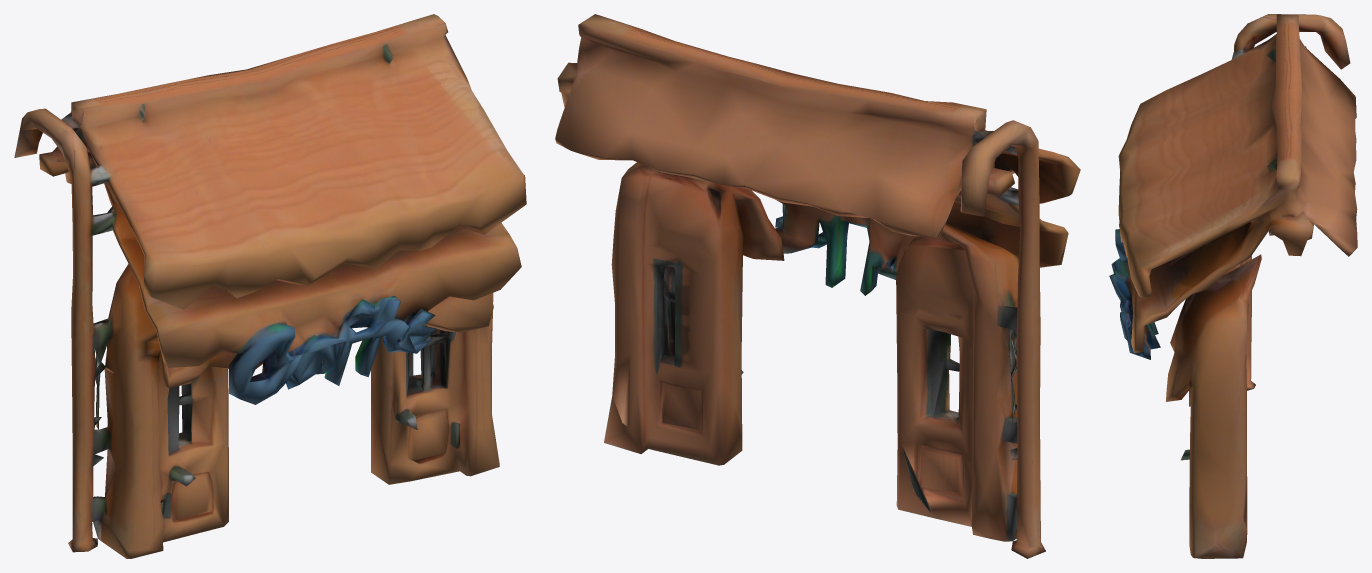
The model's file is bistro_italy.glb.
3 renders of one model, left to right at view 1: azimuth 30°, elevation 25°; view 2: azimuth 150°, elevation 25°; view 3: azimuth 270°, elevation 25°, orthographic. The views are drawn at different scales.
Bounding box in the file's own units: 2 × 1.95 × 1.15.
Materials: 1 (1 with a texture image).
